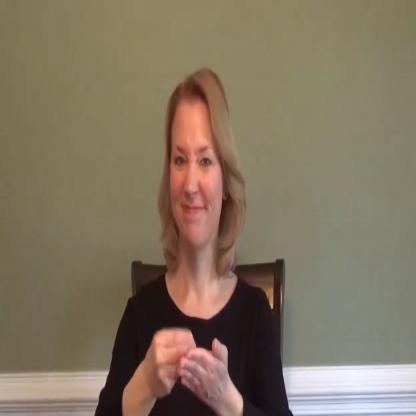Expensive: (140, 312, 241, 416)
